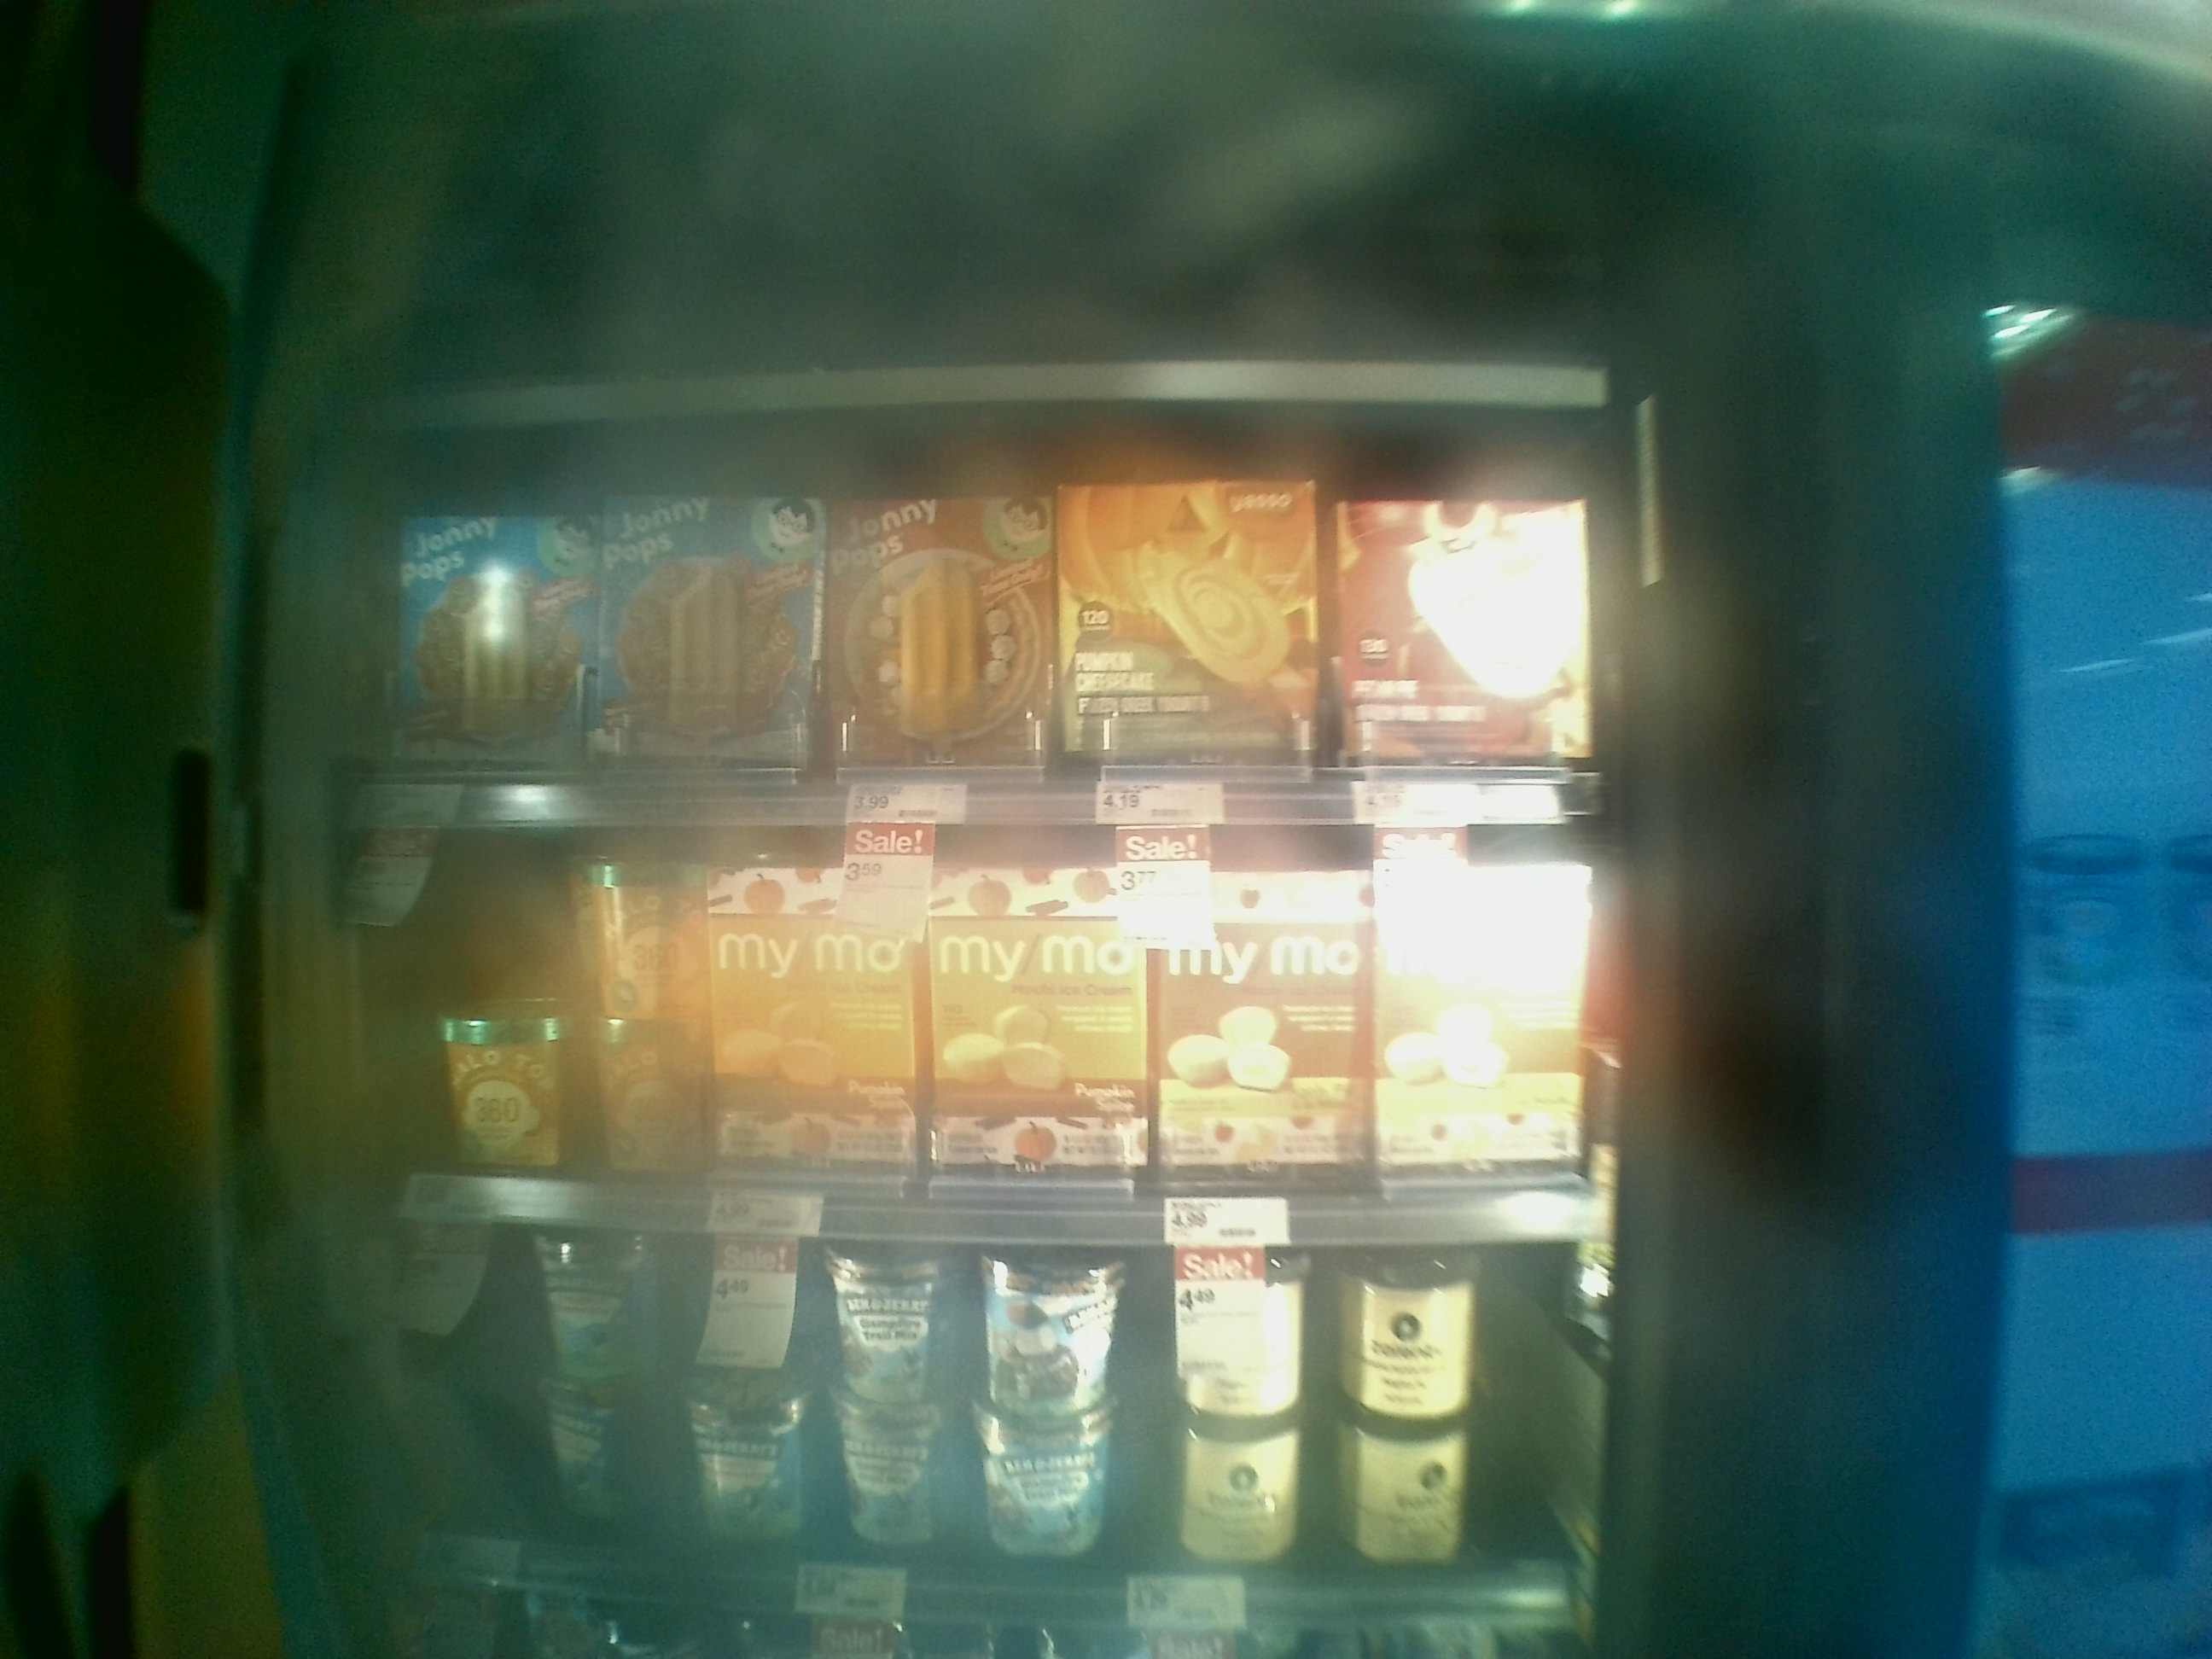shelf: (322, 807, 1609, 1249), (333, 1218, 1597, 1642), (341, 427, 1620, 829)
